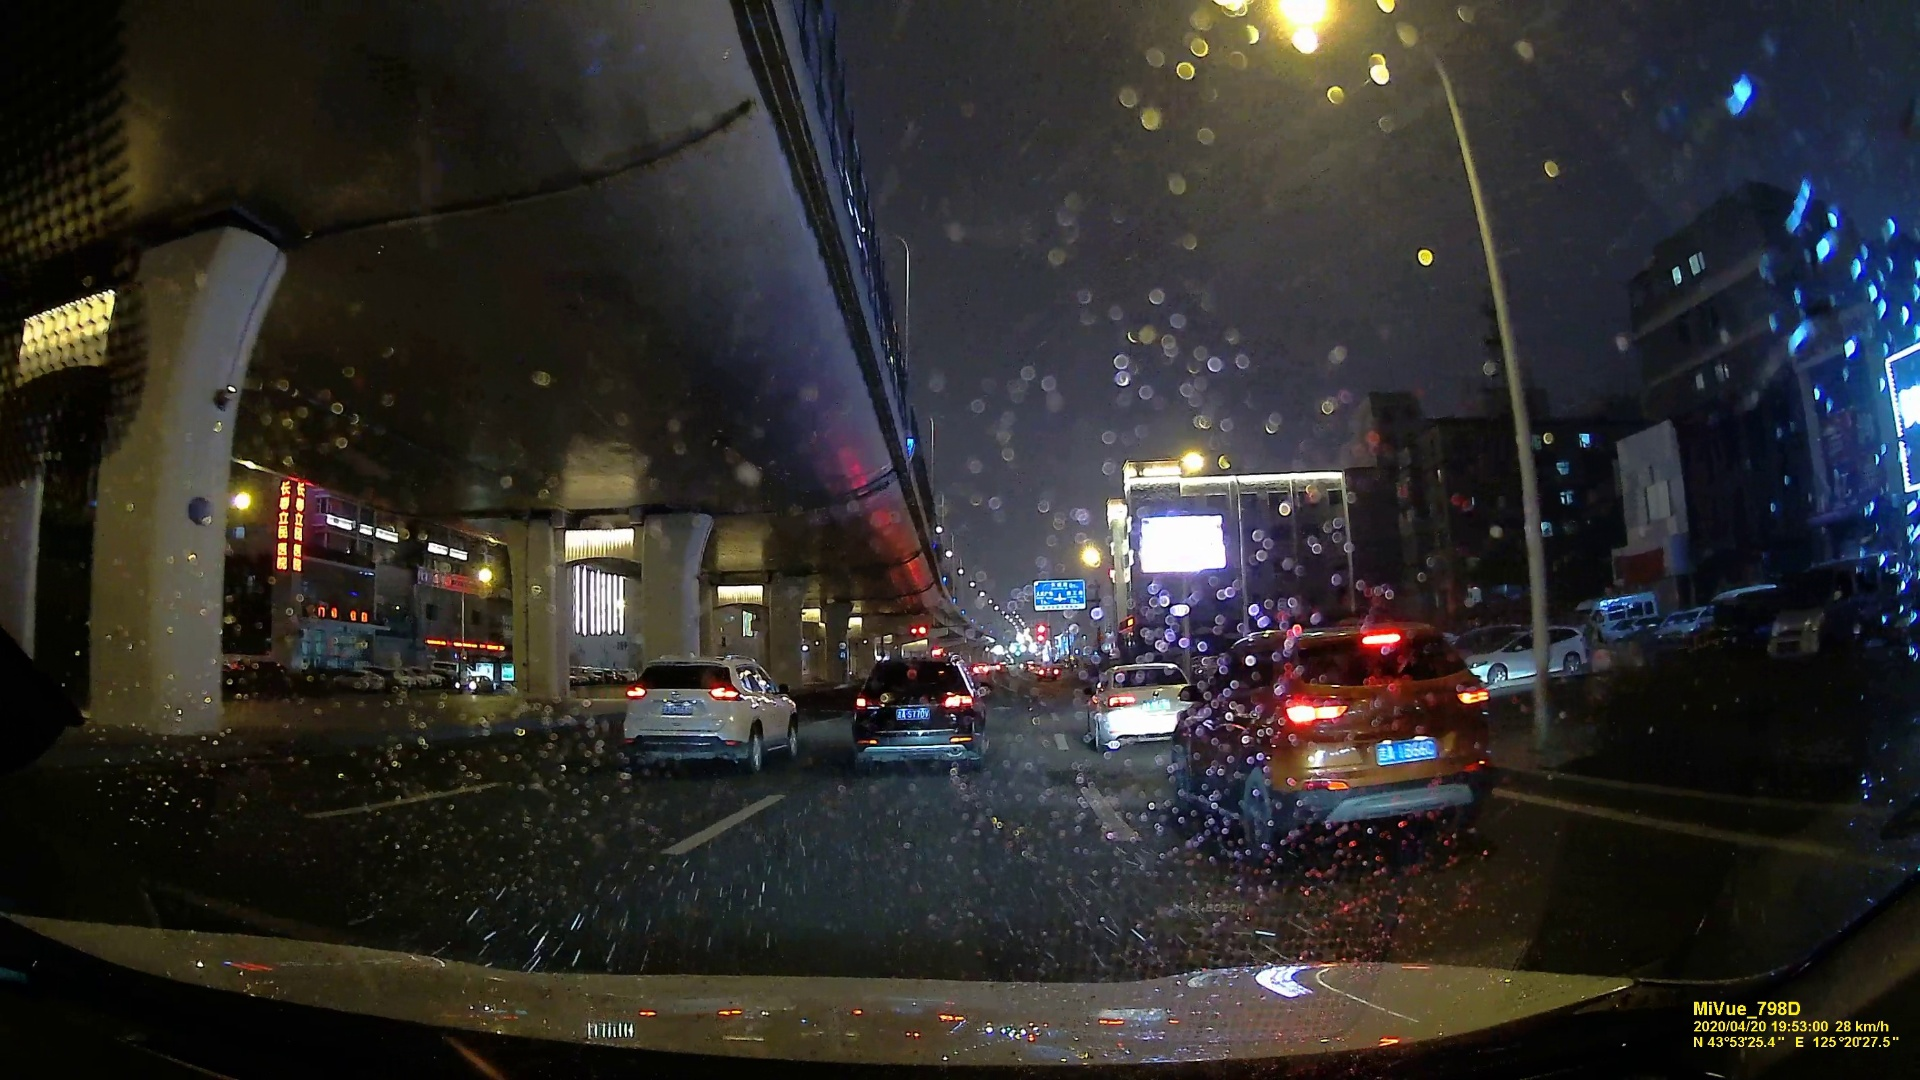traffic_sign: (1033, 582, 1083, 608)
vehicle: (1175, 621, 1487, 843), (625, 659, 794, 773), (851, 659, 988, 769), (1089, 659, 1196, 749)
